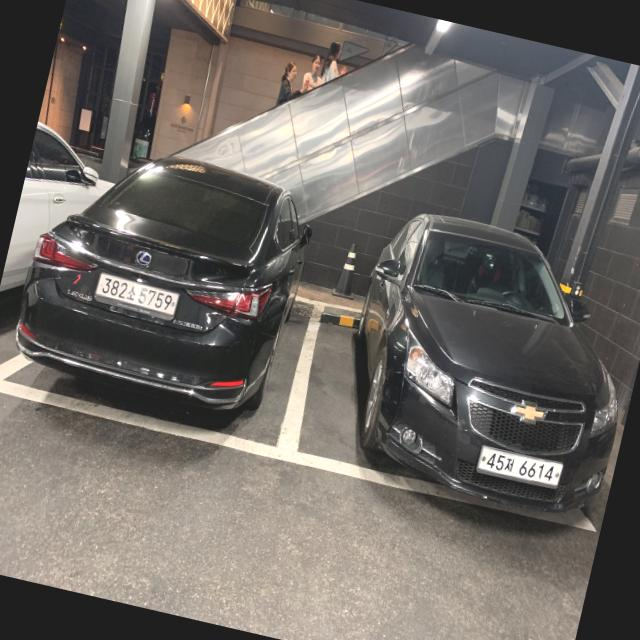car: (352, 214, 619, 518), (15, 159, 310, 418)
